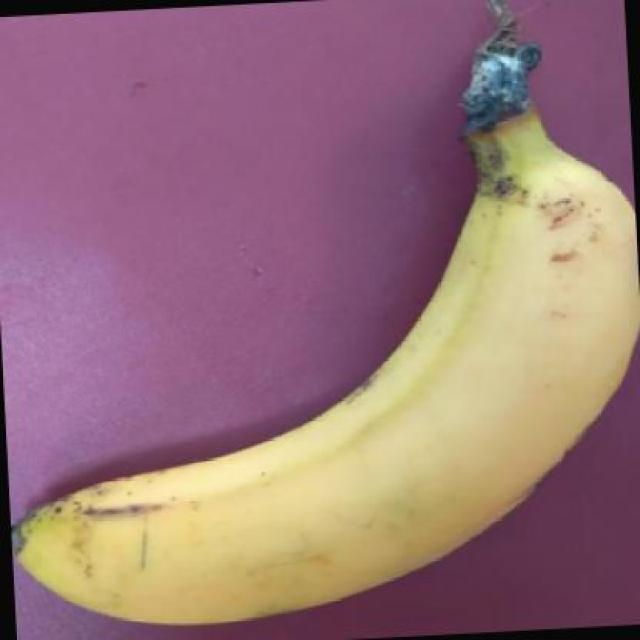ripe: (0, 78, 640, 635)
